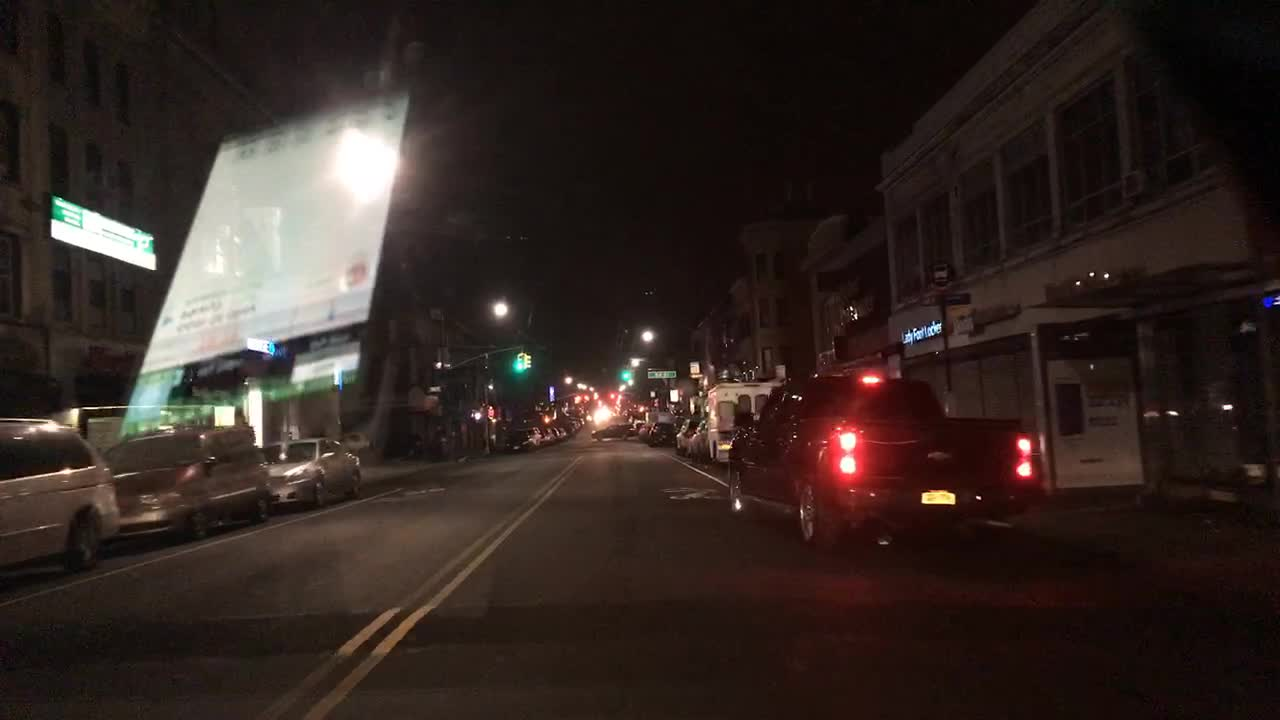bus: (704, 379, 780, 464)
car: (102, 422, 273, 541), (0, 416, 120, 576), (257, 436, 363, 512), (506, 424, 543, 449), (675, 417, 700, 450), (593, 422, 634, 442), (687, 417, 705, 458), (648, 420, 674, 445), (561, 414, 581, 434), (540, 423, 560, 443), (553, 419, 574, 438), (563, 411, 582, 427), (547, 423, 562, 440), (634, 422, 650, 436), (573, 412, 586, 422)
traffic light: (514, 351, 523, 369), (472, 409, 485, 421), (525, 354, 533, 368), (620, 368, 630, 379), (608, 393, 617, 399), (584, 394, 590, 400)
traffic sign: (928, 259, 954, 284), (944, 291, 972, 303), (648, 368, 678, 378), (688, 360, 699, 372), (690, 373, 706, 378)
truck: (728, 373, 1036, 557)
